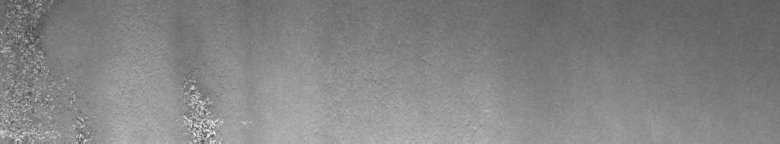hc: (176, 76, 252, 136)
